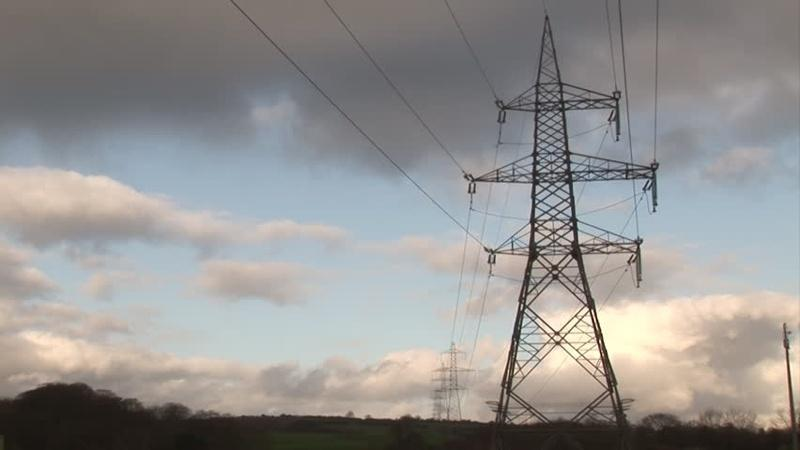power_tower: (465, 13, 660, 448), (429, 342, 475, 420), (430, 362, 454, 420)
